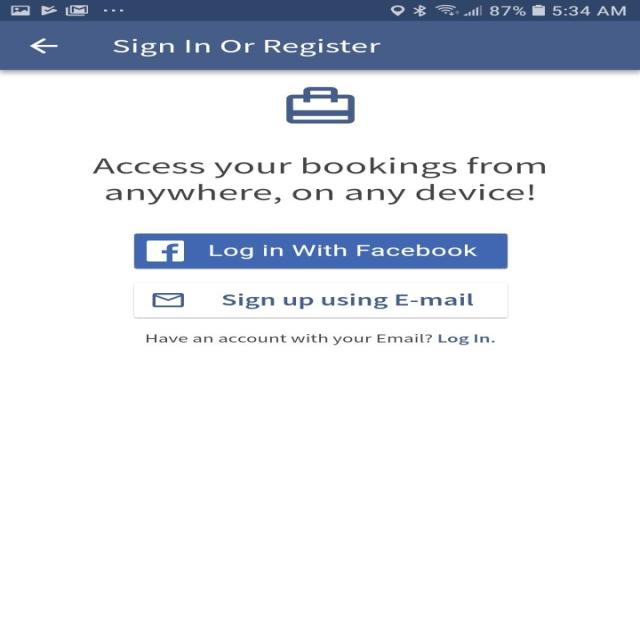Icon: (285, 86, 355, 124), (30, 37, 59, 54)
Text: (92, 157, 546, 205), (112, 39, 380, 57), (145, 334, 496, 344)
TextButton: (132, 282, 508, 318), (134, 233, 508, 269)
